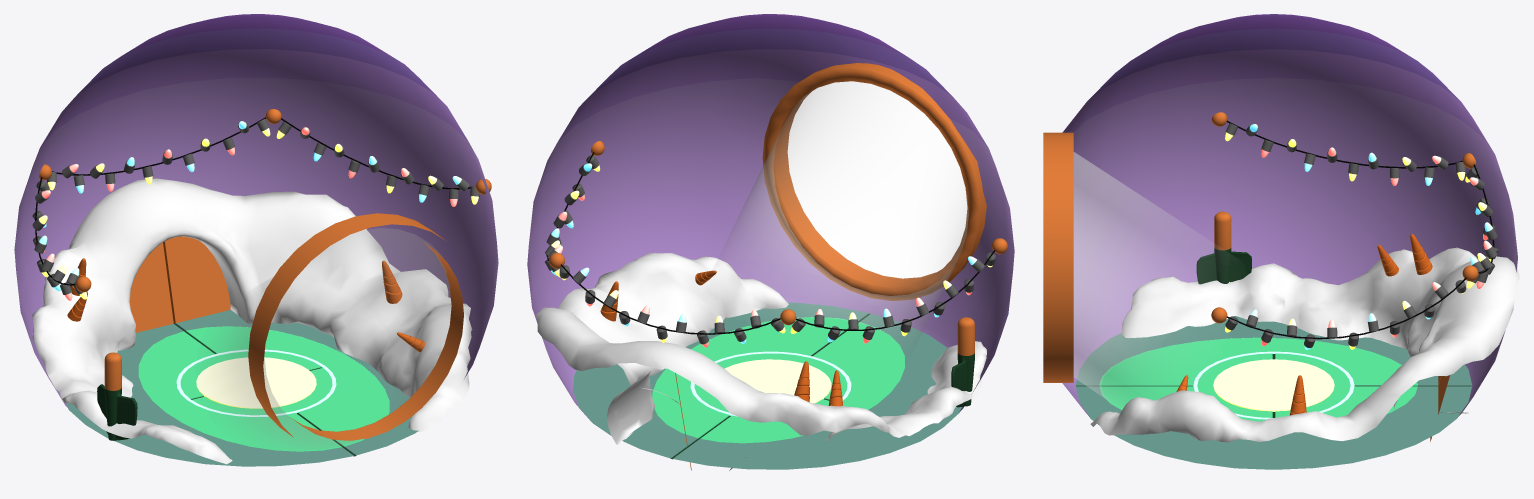
File: snowman_interior.glb
3 views of the same model, side by side, from view 1: azimuth 30°, elevation 25°; view 2: azimuth 150°, elevation 25°; view 3: azimuth 270°, elevation 25° (orthographic).
Visible parts, largest first — view 1: Walls, Snow, Ground_Highlight, Light_Shaft, Plane, Window, Door, Lights, Platform, Shovel, Carrots; view 2: Walls, Window, Light_Shaft, Snow, Plane, Ground_Highlight, Lights, Platform, Shovel, Carrots; view 3: Walls, Snow, Light_Shaft, Plane, Ground_Highlight, Window, Lights, Platform, Shovel, Carrots.
Part boxes in pixels (<box>): Walls: <box>14,14,498,409</box>; Snow: <box>32,178,472,464</box>; Ground_Highlight: <box>138,326,389,451</box>; Light_Shaft: <box>222,228,451,450</box>; Plane: <box>66,310,418,466</box>; Window: <box>248,213,463,440</box>; Door: <box>129,236,230,332</box>; Lights: <box>32,109,491,300</box>; Platform: <box>176,349,336,416</box>; Shovel: <box>97,352,137,440</box>; Carrots: <box>67,258,424,352</box>; Walls: <box>527,14,1014,420</box>; Window: <box>762,63,986,300</box>; Light_Shaft: <box>725,81,968,337</box>; Snow: <box>536,253,986,470</box>; Plane: <box>573,302,961,469</box>; Ground_Highlight: <box>652,317,904,443</box>; Lights: <box>545,141,1007,347</box>; Platform: <box>690,351,851,416</box>; Shovel: <box>951,317,974,407</box>; Carrots: <box>600,270,842,406</box>; Walls: <box>1062,14,1517,417</box>; Snow: <box>1090,247,1519,442</box>; Light_Shaft: <box>1073,152,1208,404</box>; Plane: <box>1076,316,1471,469</box>; Ground_Highlight: <box>1099,337,1417,421</box>; Window: <box>1043,132,1073,382</box>; Lights: <box>1211,112,1498,349</box>; Platform: <box>1193,351,1354,419</box>; Shovel: <box>1196,211,1251,284</box>; Carrots: <box>1176,234,1432,415</box>.
Size of what is drawn, in the model's own units: 193 by 186 by 189.
Materials: 20 (1 with a texture image).
